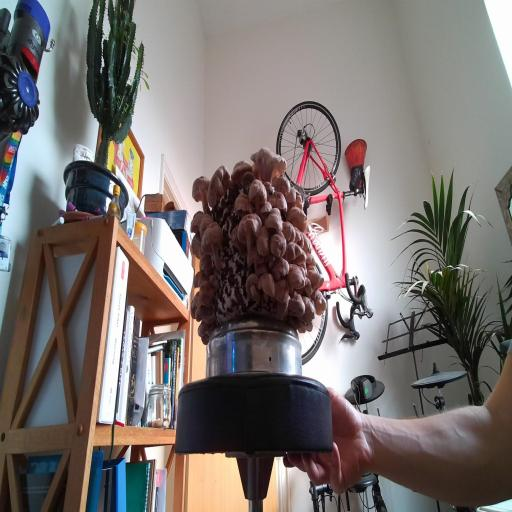Shiitake Mushroom: (188, 214, 244, 273), (239, 139, 297, 191), (195, 159, 240, 211), (231, 203, 267, 254), (239, 172, 276, 215), (276, 236, 315, 274), (251, 266, 285, 307), (228, 186, 260, 226), (280, 200, 316, 234), (223, 155, 259, 186), (225, 223, 252, 264), (193, 276, 219, 313), (265, 169, 298, 198), (191, 208, 219, 237), (308, 285, 331, 318), (243, 270, 263, 307), (297, 294, 319, 327), (253, 224, 273, 260), (269, 253, 292, 282), (192, 175, 210, 212), (187, 205, 207, 237), (287, 290, 307, 320), (266, 189, 291, 212), (197, 250, 215, 280), (188, 231, 205, 262), (282, 184, 302, 210), (255, 197, 277, 220), (288, 226, 310, 249), (193, 305, 218, 325), (286, 315, 311, 335), (287, 263, 306, 289), (298, 229, 315, 258), (306, 269, 325, 293), (270, 231, 287, 257), (196, 319, 216, 338), (275, 278, 289, 303), (261, 177, 275, 201), (282, 221, 296, 241), (240, 170, 257, 185), (303, 276, 315, 297), (276, 300, 288, 320), (294, 190, 306, 209), (190, 291, 202, 310), (192, 268, 201, 289), (306, 253, 316, 266), (190, 304, 197, 319), (201, 332, 209, 345), (306, 321, 314, 333)
